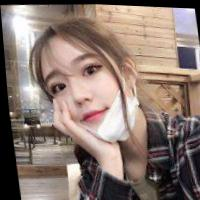WRONG: (37, 48, 139, 147)
